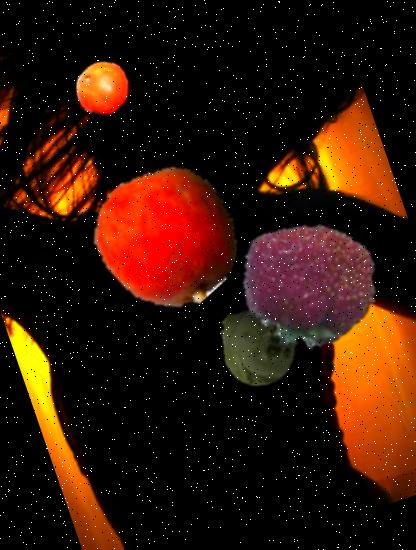Clementine: (67, 52, 139, 125)
Kohlrabi: (202, 290, 310, 398)
Peach: (78, 145, 260, 327)
Strawberry: (220, 197, 397, 374)
